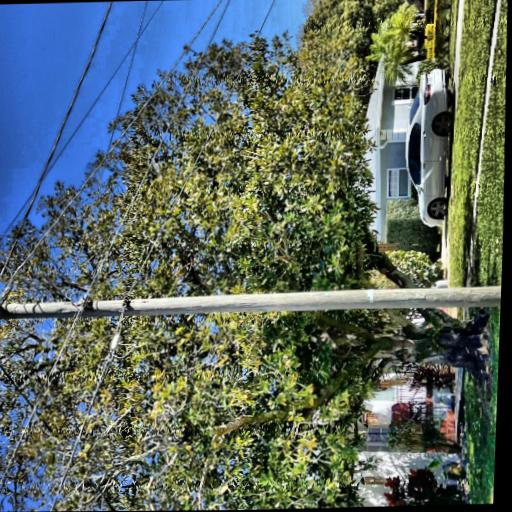pole: (45, 76, 95, 512)
street light: (72, 19, 172, 127)
